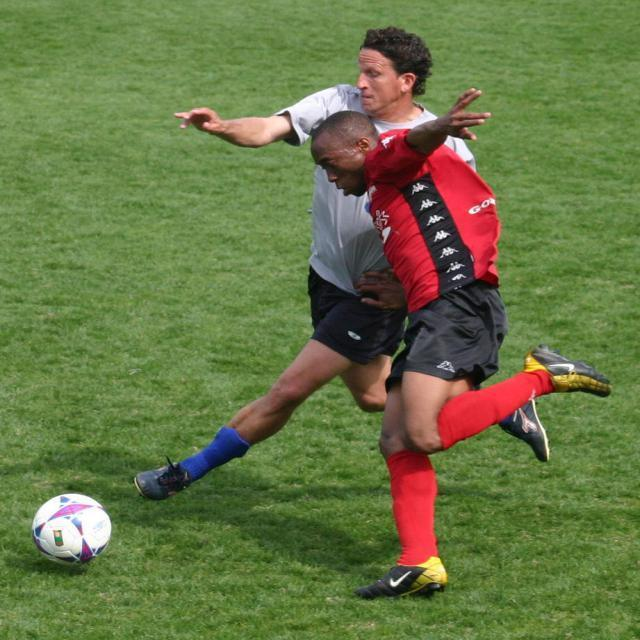football: (22, 486, 120, 568)
